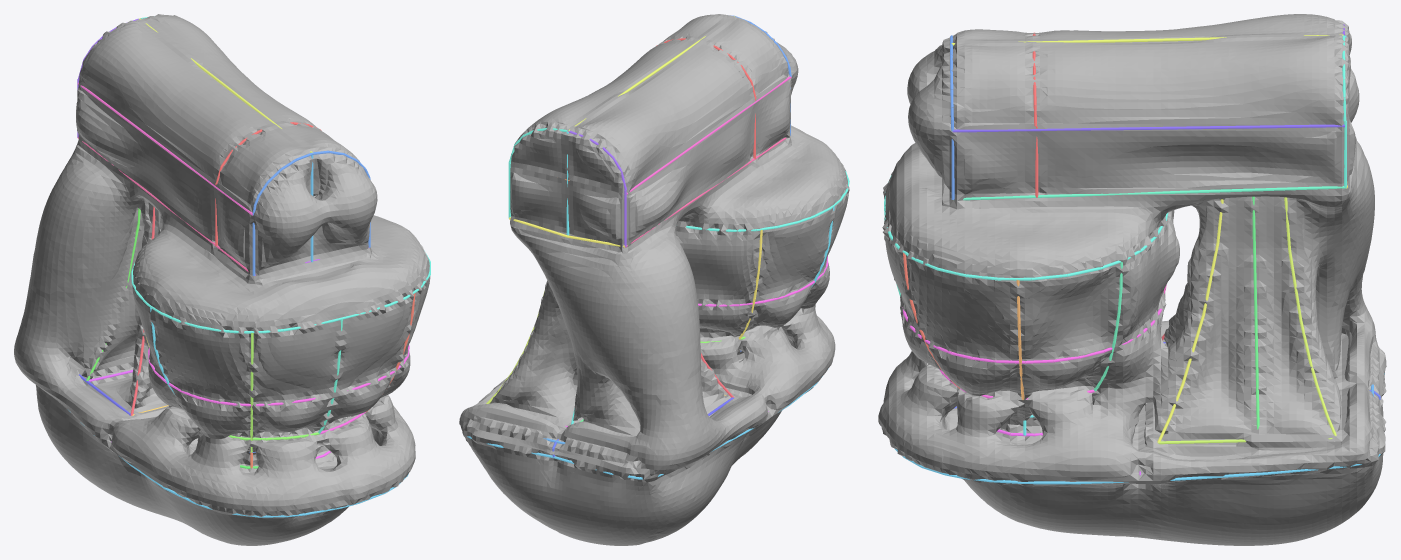
File: t2f_blender.gltf
3 renders of one model, left to right at view 1: azimuth 30°, elevation 25°; view 2: azimuth 150°, elevation 25°; view 3: azimuth 270°, elevation 25°, orthographic. The views are drawn at different scales.
Size of the model in its own units: 0.4703 by 0.7267 by 0.6857.
